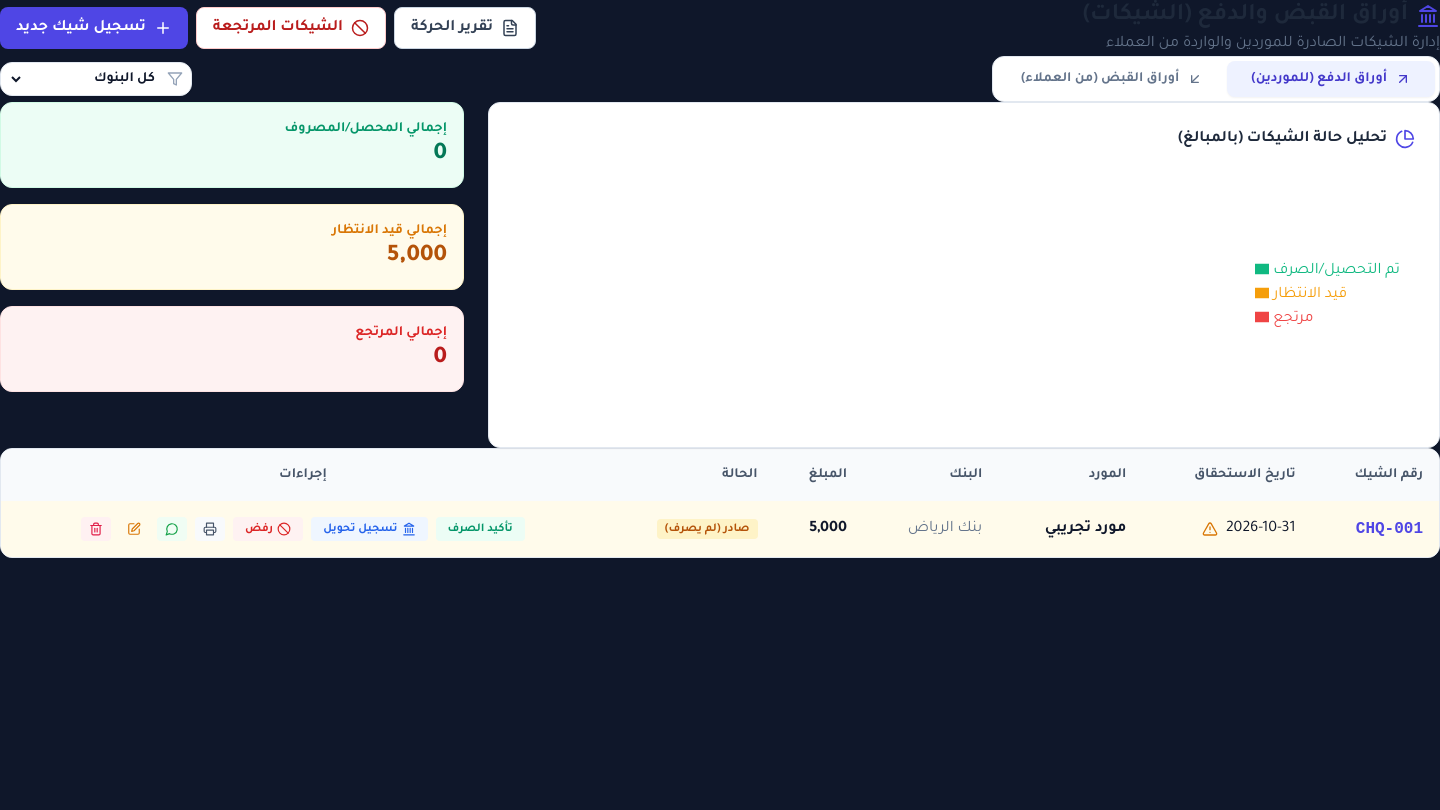
🏦 ChequesPage (Banking & Cheques Management) Tests › يفتح نافذة تسجيل شيك جديد ويتيح تعبئة رقم الشيك والمبلغ وتاريخ الاستحقاق
Expected: the text "CHQ-001" is shown, 1312,501 -> 1439,557
Click the button "تسجيل شيك جديد": coordinates (94, 28) 0,7 -> 188,49
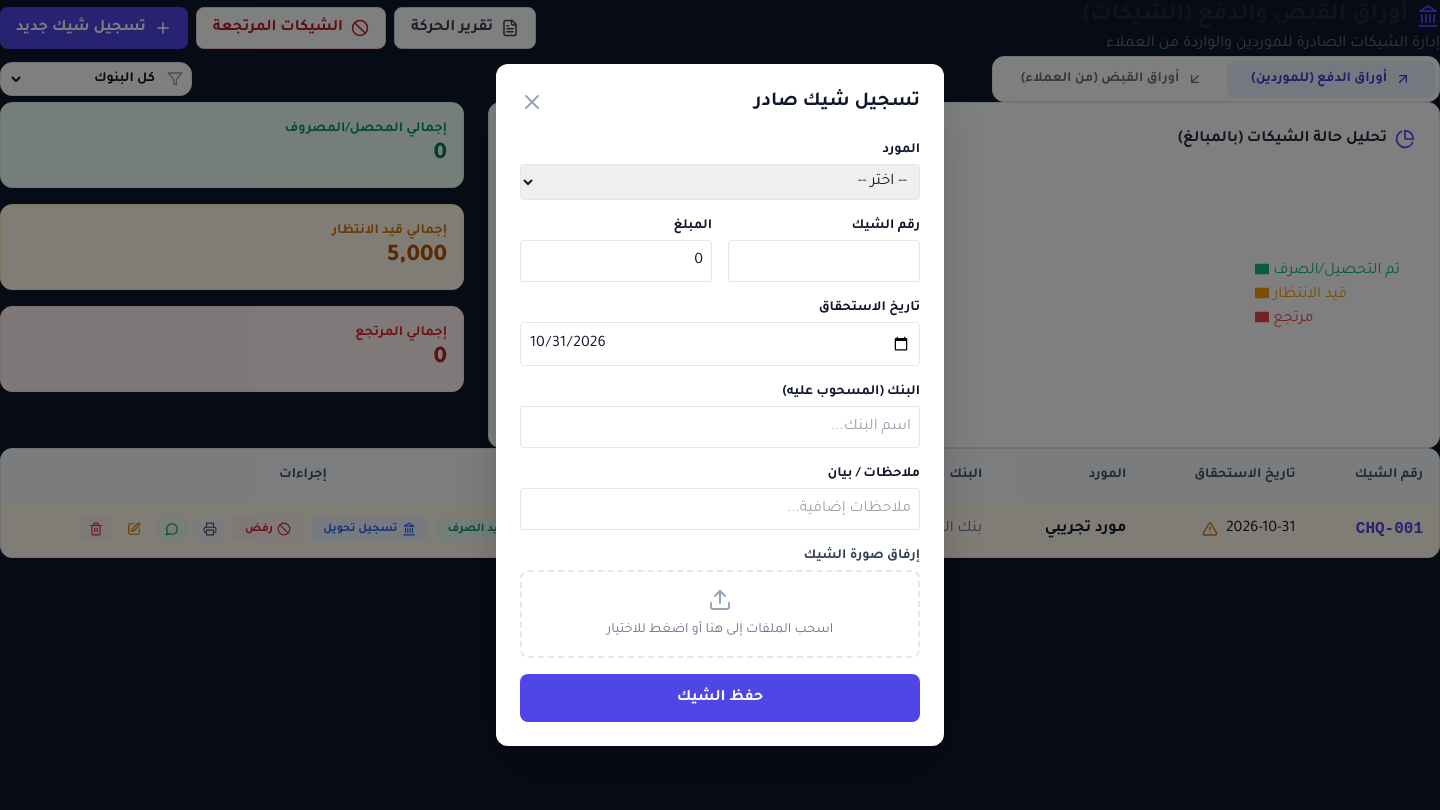
Expected: the heading "تسجيل شيك صادر" is shown, 754,88 -> 920,116
Expected: the field with placeholder "اسم البنك..." is shown, 520,406 -> 920,448
Expected: the field with placeholder "ملاحظات إضافية..." is shown, 520,488 -> 920,530
